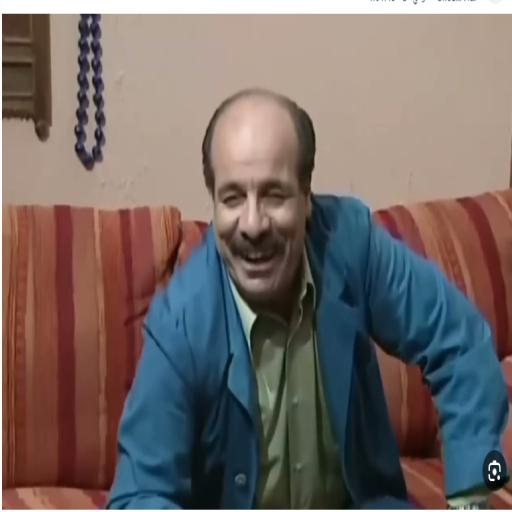beji_matrix: (203, 90, 315, 299)
